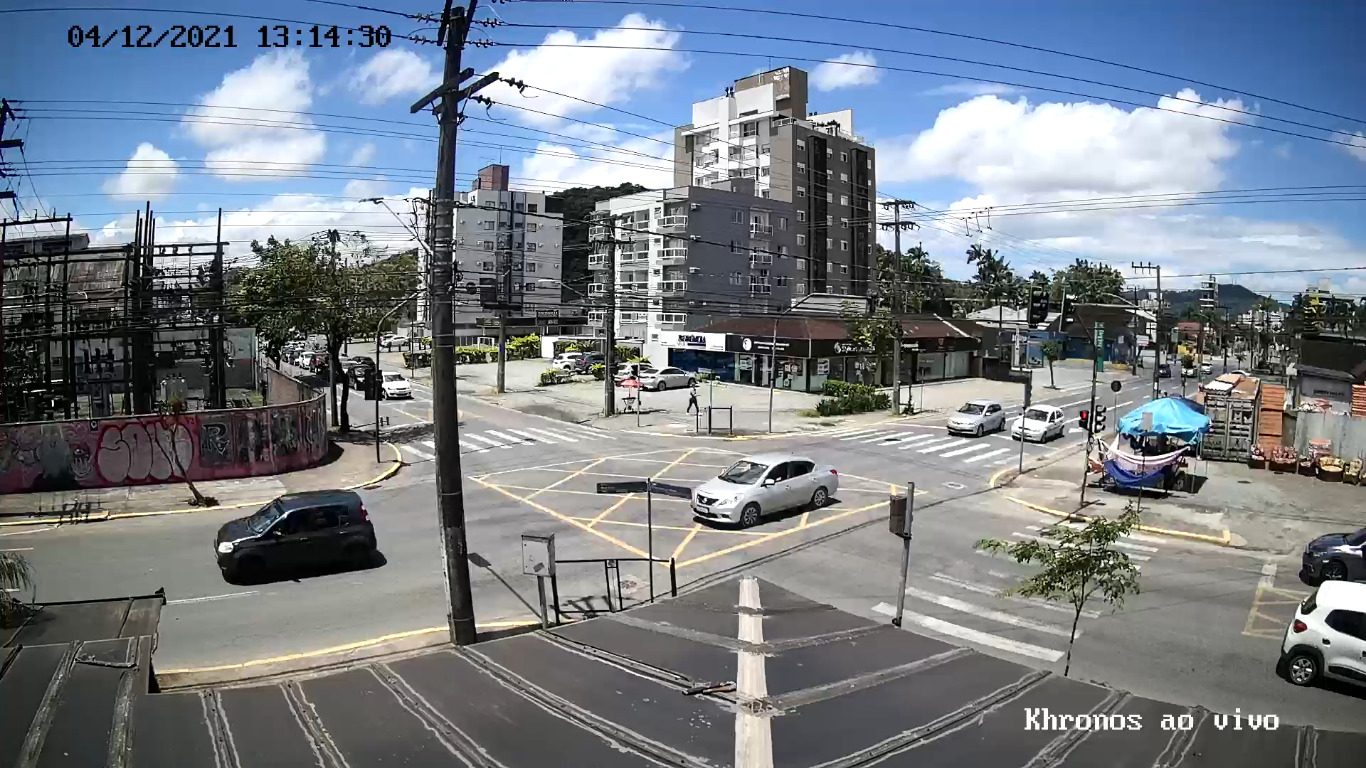car: (214, 487, 378, 586), (690, 451, 839, 528), (1279, 578, 1366, 695)
